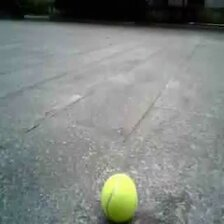tennis: (104, 175, 137, 219)
